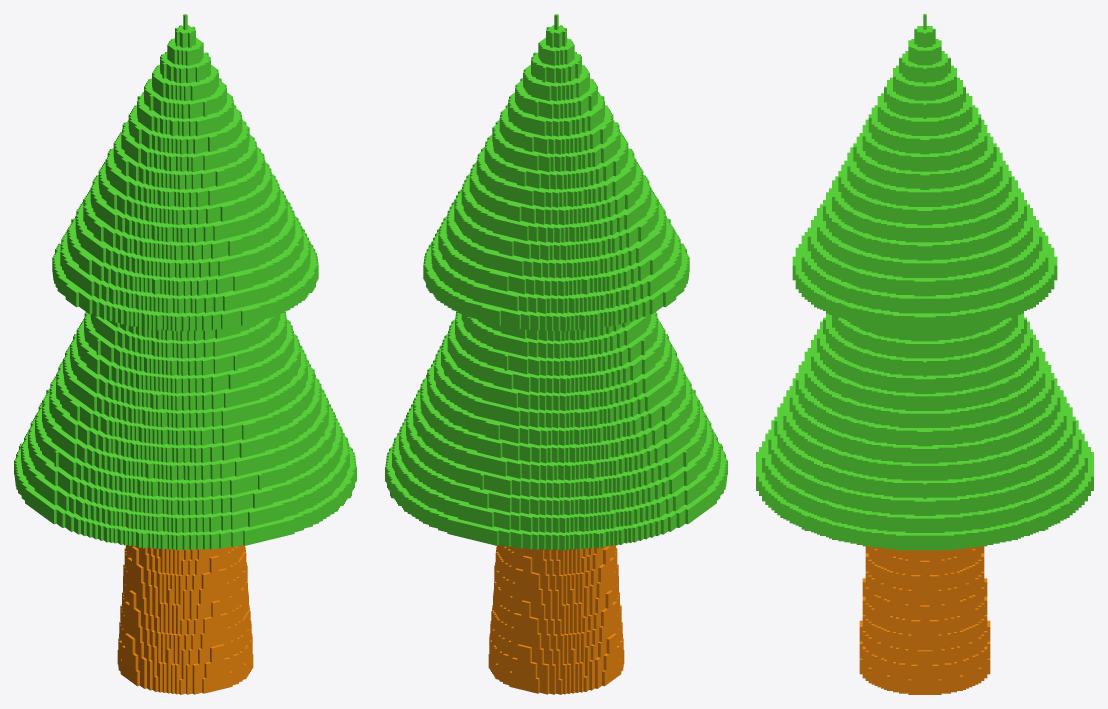
The model's file is tree_blocky.fbx.
3 views of the same model, side by side, from view 1: azimuth 30°, elevation 25°; view 2: azimuth 150°, elevation 25°; view 3: azimuth 270°, elevation 25° (orthographic).
Parts seen in each view (by area): view 1: A_tree; view 2: A_tree; view 3: A_tree.
Boxes of the visible parts, x1,y1,x2,y2 form: A_tree: [14, 14, 356, 694]; A_tree: [385, 14, 727, 694]; A_tree: [756, 14, 1093, 694].
Size of the model in its own units: 32.38 by 69.01 by 32.38.
